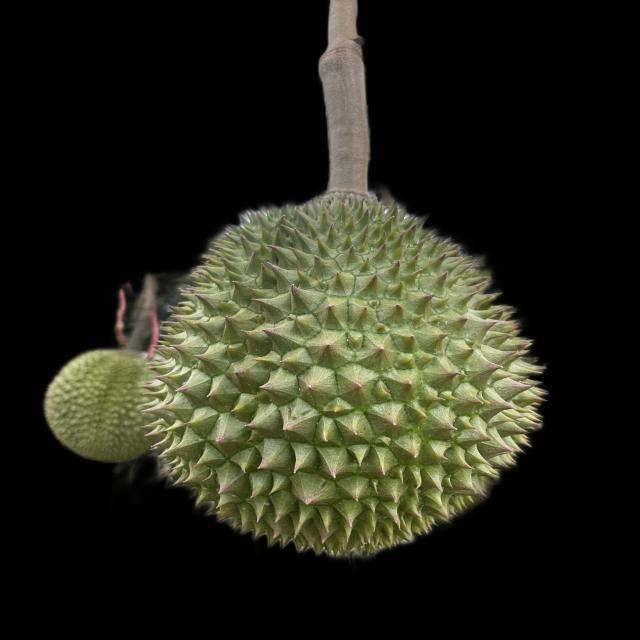immature: (141, 199, 547, 561)
